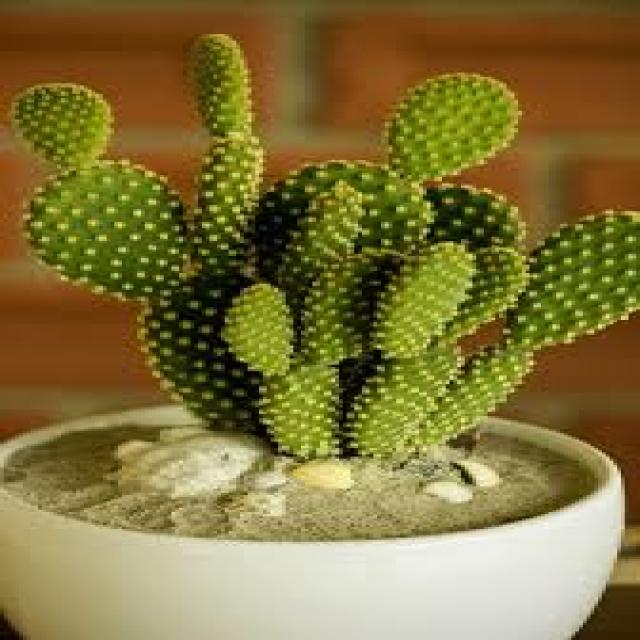cactus: (1, 13, 640, 460)
